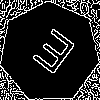E: (24, 27, 78, 84)
